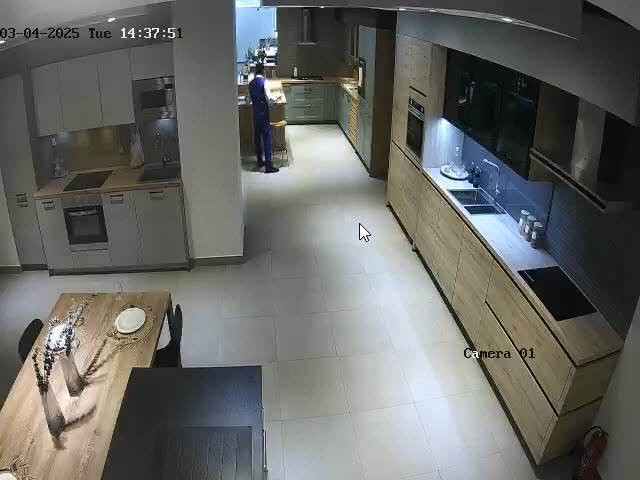employee: (248, 63, 280, 174)
